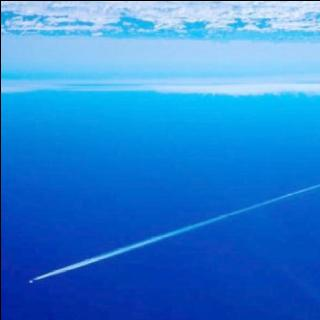Contrails: (13, 170, 320, 275)
